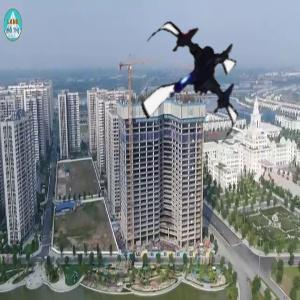drone: (126, 19, 258, 151)
